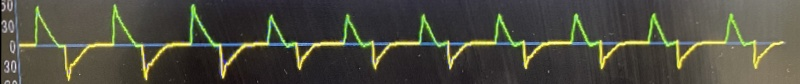normal_flow: (10, 5, 791, 77)
